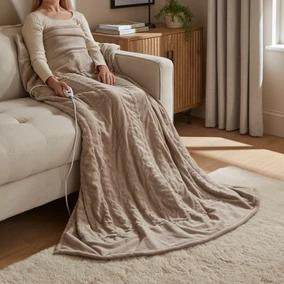blanket: (12, 26, 262, 260)
long sleeve shirt: (21, 9, 110, 85)
